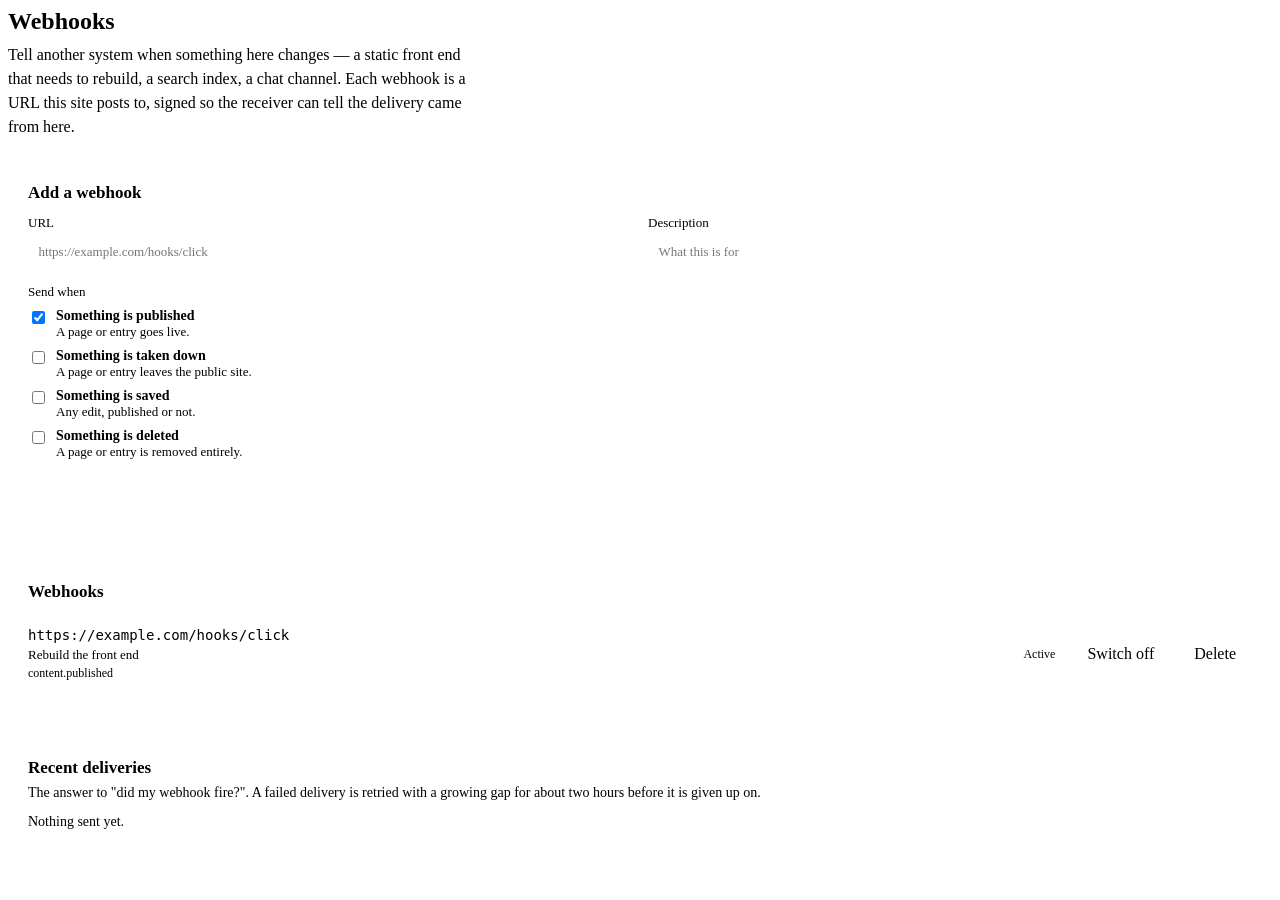
Test: deleting a webhook › DELETEs the endpoint once confirmed and refreshes the list
Click the button with class "btn-danger" at (1215, 654), box 1178,637 -> 1252,671
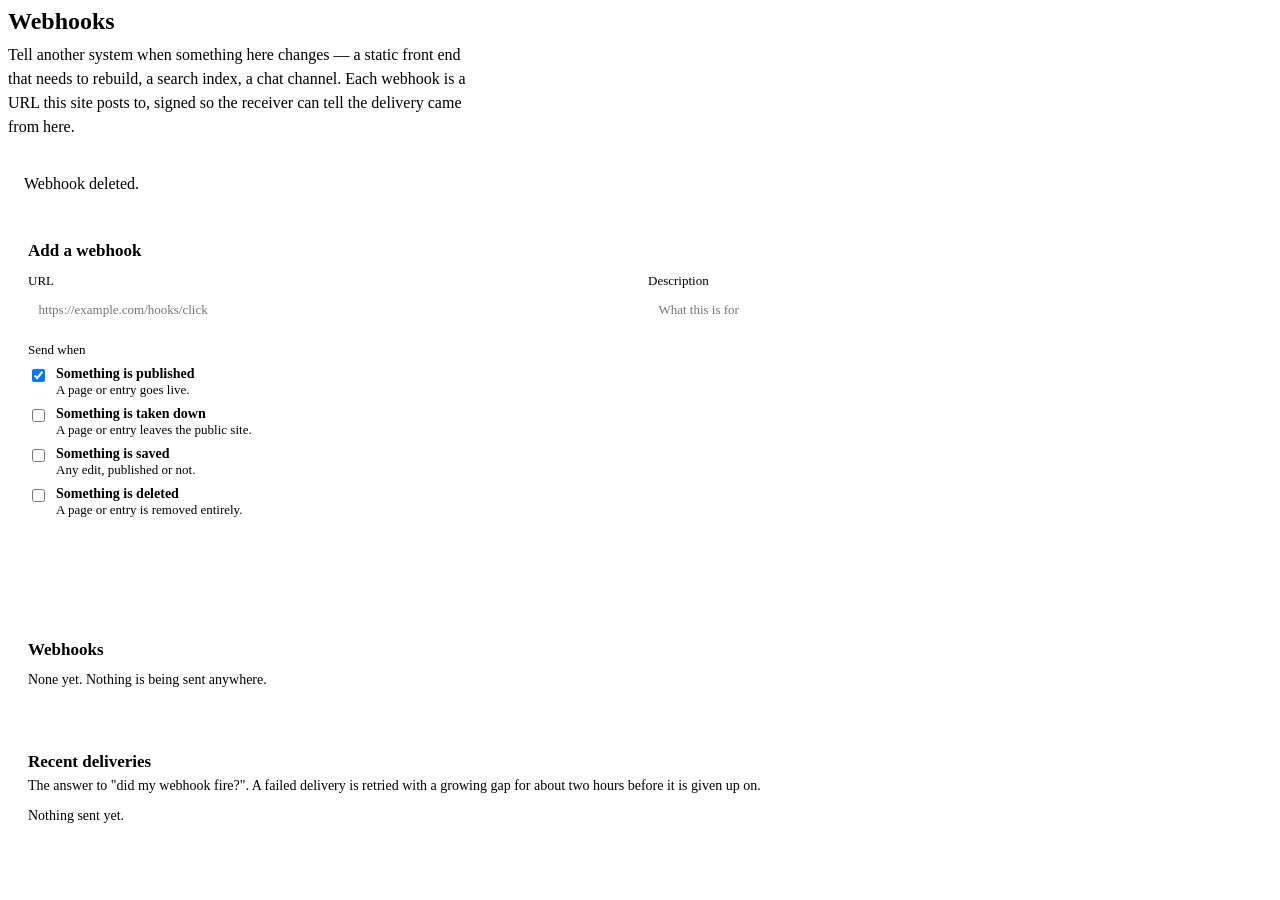
Now the text "None yet. Nothing is being sent anywhere." is shown, box 28,672 -> 267,687
